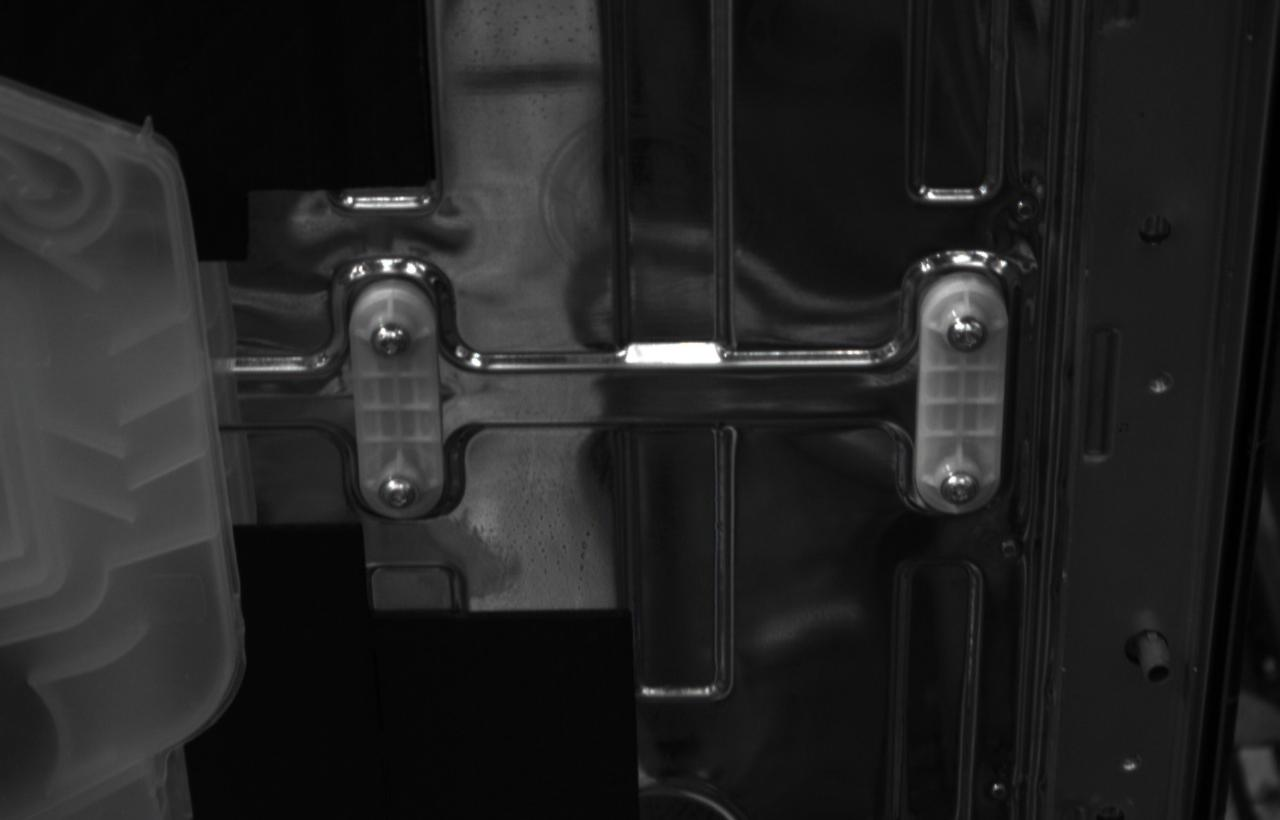vida-ok: (947, 315, 987, 354), (370, 322, 411, 358), (940, 472, 980, 506), (379, 476, 415, 510)
